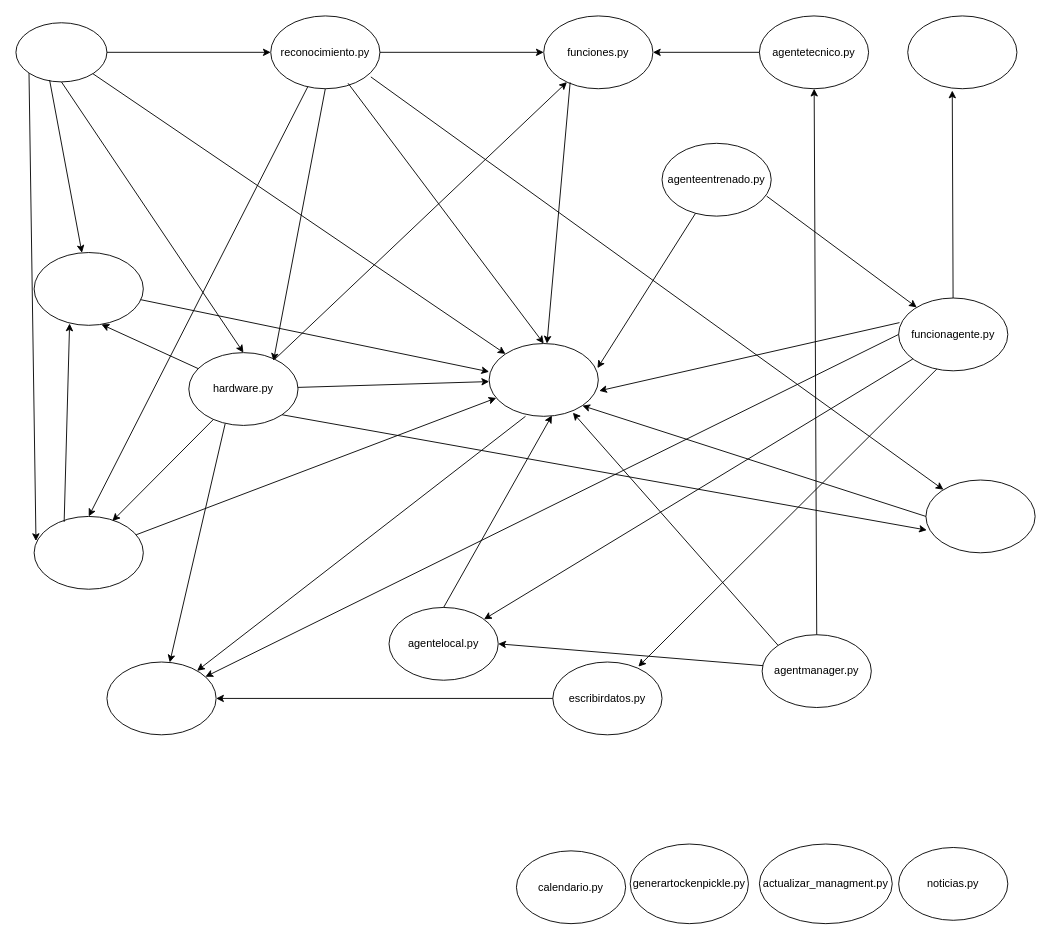
Image size: 1051x940. Some labels were removed from this diagram. Each missing label, with the centre of its shape:
"contexto.py" goes at (543,379).
"gmail.py" goes at (962,52).
"interfaz.py" goes at (88,288).
"main.py" goes at (61,52).
"memoria.py" goes at (161,698).
"terminartodo.py" goes at (88,552).
"voz.py" goes at (980,516).
